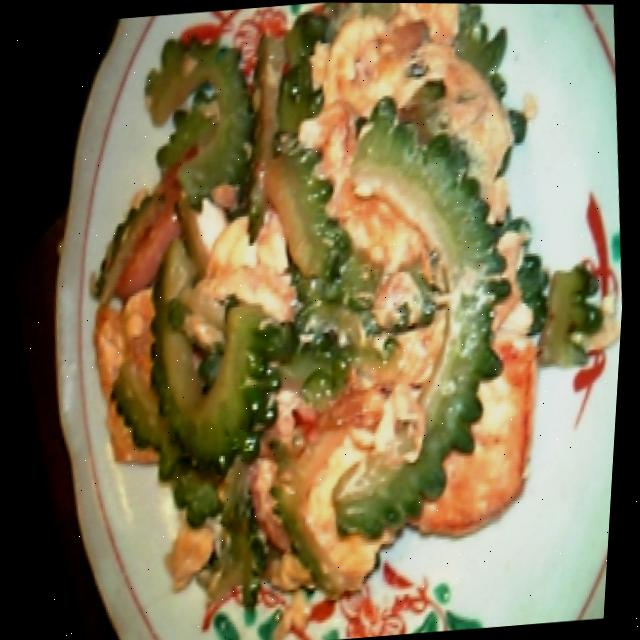熟制海鲜: (25, 0, 640, 640)
